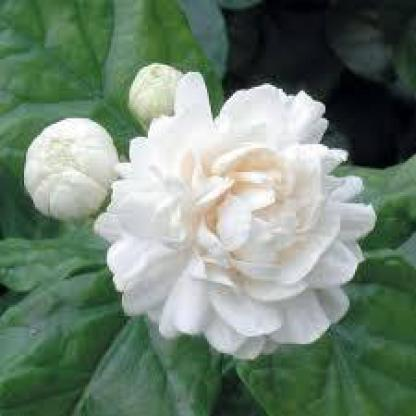Melati: (32, 53, 371, 339)
